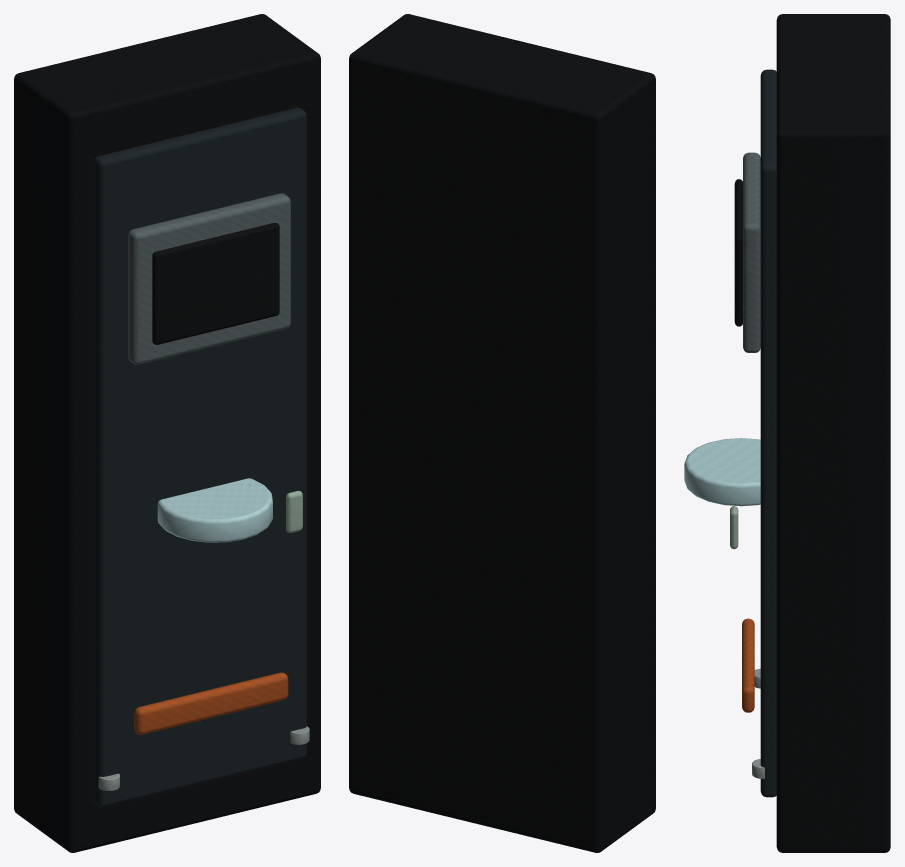
The model's file is BiometricScanner.fbx.
3 renders of one model, left to right at view 1: azimuth 30°, elevation 25°; view 2: azimuth 150°, elevation 25°; view 3: azimuth 270°, elevation 25°, orthographic. The views are drawn at different scales.
Visible parts, largest first — view 1: BiometricScanner_Mesh; view 2: BiometricScanner_Mesh; view 3: BiometricScanner_Mesh.
Part boxes in pixels (<box>): BiometricScanner_Mesh: <box>14,14,320,852</box>; BiometricScanner_Mesh: <box>349,14,655,852</box>; BiometricScanner_Mesh: <box>684,14,890,852</box>.
Size of the model in its own units: 40 by 112 by 29.
